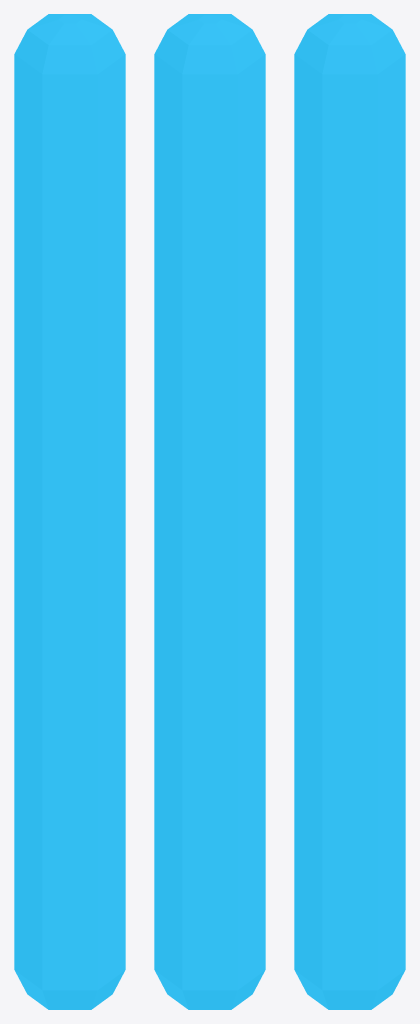
Rendered from sm_bullet.glb.
3 views of the same model, side by side, from view 1: azimuth 90°, elevation 25°; view 2: azimuth 150°, elevation 25°; view 3: azimuth 270°, elevation 25° (orthographic).
Parts seen in each view (by area): view 1: sm_bullet; view 2: sm_bullet; view 3: sm_bullet.
Part boxes in pixels (x1=…): sm_bullet: x1=14, y1=14, x2=125, y2=1009; sm_bullet: x1=154, y1=14, x2=265, y2=1009; sm_bullet: x1=294, y1=14, x2=405, y2=1009.
Size of the model in its own units: 0.177 by 2 by 0.2044.
